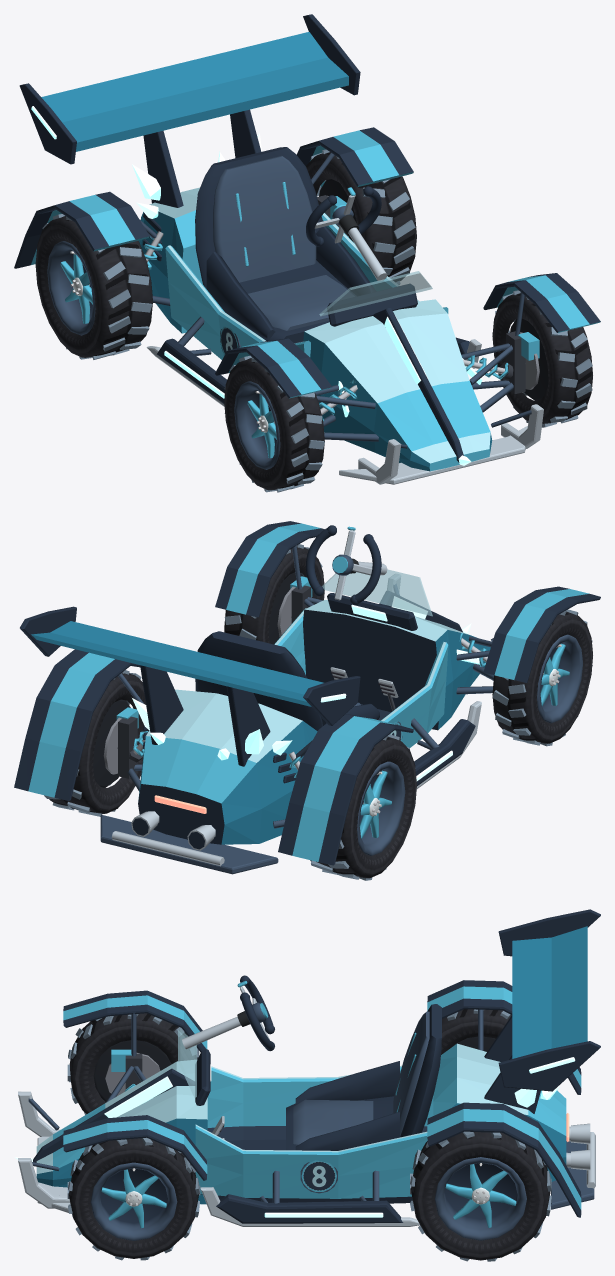
The model's file is geada.glb.
3 views of the same model, one above another, from view 1: azimuth 30°, elevation 25°; view 2: azimuth 150°, elevation 25°; view 3: azimuth 270°, elevation 25° (orthographic). The views are drawn at different scales.
Visible parts, largest first — view 1: body_mesh, wheel_rr_mesh, wheel_fr_mesh, wheel_fl_mesh, wheel_rl_mesh, steering_mesh; view 2: body_mesh, wheel_fr_mesh, wheel_rr_mesh, wheel_rl_mesh, wheel_fl_mesh, steering_mesh; view 3: body_mesh, wheel_rl_mesh, wheel_fl_mesh, wheel_fr_mesh, wheel_rr_mesh, steering_mesh.
Part boxes in pixels (x1=…): body_mesh: x1=14, y1=14, x2=600, y2=484; wheel_rr_mesh: x1=35, y1=214, x2=152, y2=359; wheel_fr_mesh: x1=224, y1=355, x2=324, y2=492; wheel_fl_mesh: x1=492, y1=290, x2=592, y2=427; wheel_rl_mesh: x1=306, y1=149, x2=416, y2=284; steering_mesh: x1=306, y1=186, x2=381, y2=246; body_mesh: x1=14, y1=521, x2=600, y2=874; wheel_fr_mesh: x1=492, y1=609, x2=592, y2=746; wheel_rr_mesh: x1=310, y1=734, x2=416, y2=880; wheel_rl_mesh: x1=44, y1=670, x2=148, y2=816; wheel_fl_mesh: x1=224, y1=544, x2=324, y2=644; steering_mesh: x1=306, y1=525, x2=381, y2=605; body_mesh: x1=14, y1=909, x2=600, y2=1226; wheel_rl_mesh: x1=410, y1=1131, x2=551, y2=1261; wheel_fl_mesh: x1=67, y1=1137, x2=200, y2=1260; wheel_fr_mesh: x1=67, y1=1013, x2=199, y2=1114; wheel_rr_mesh: x1=441, y1=1009, x2=511, y2=1054; steering_mesh: x1=237, y1=975, x2=274, y2=1051.
Bounding box in the file's own units: 1.48 × 1 × 2.47.
Materials: 11 (2 with a texture image).
